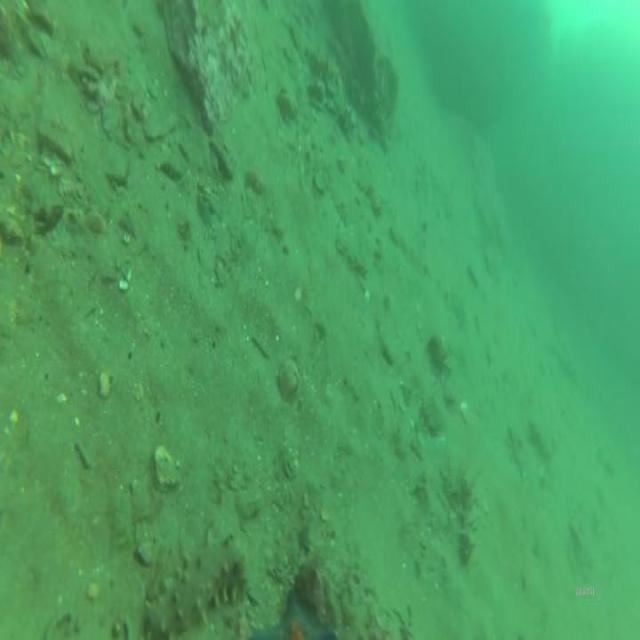holothurian: (147, 539, 248, 635), (305, 40, 342, 90)
starfish: (268, 589, 330, 640)
